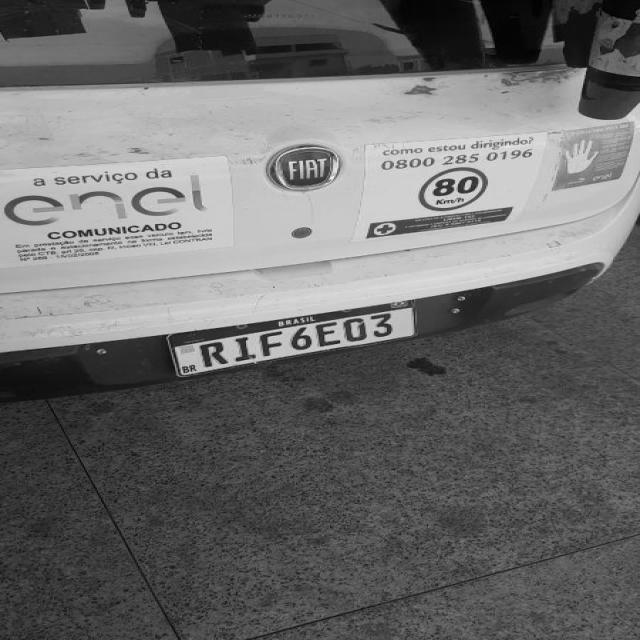placa_mercosul: (167, 301, 417, 377)
